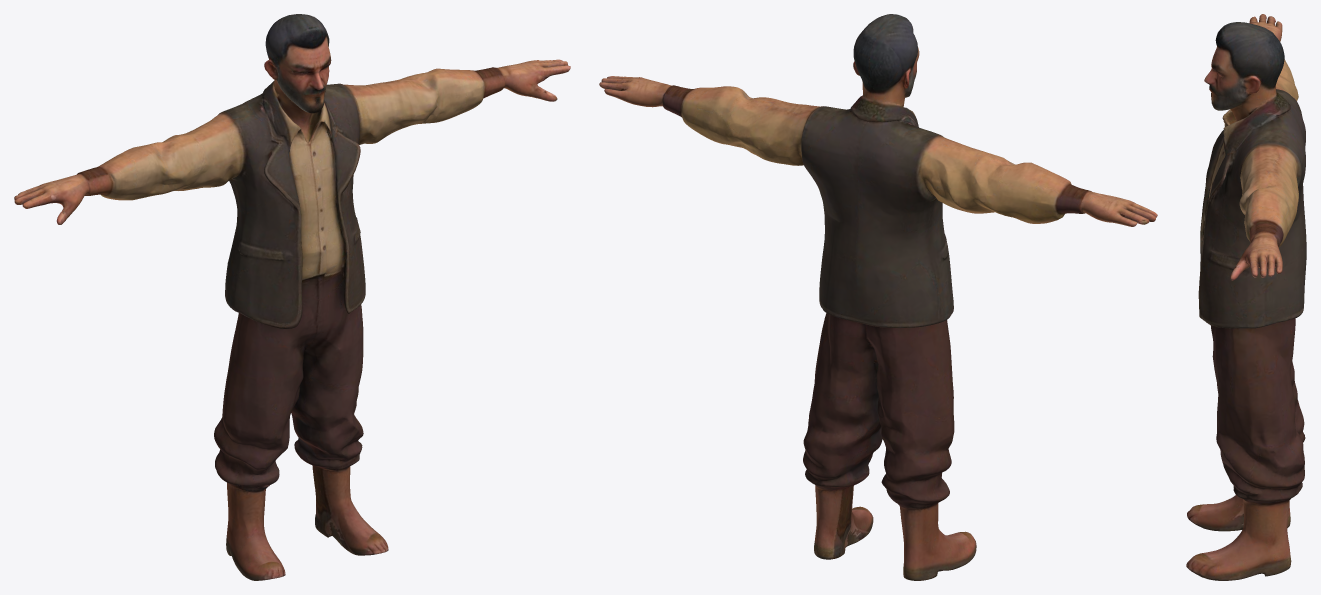
Rendered from v_yelekli.glb.
3 renders of one model, left to right at view 1: azimuth 30°, elevation 25°; view 2: azimuth 150°, elevation 25°; view 3: azimuth 270°, elevation 25°, orthographic. The views are drawn at different scales.
Parts seen in each view (by area): view 1: Object_4; view 2: Object_4; view 3: Object_4.
Boxes of the visible parts, x1,y1,x2,y2 form: Object_4: [14, 14, 570, 580]; Object_4: [599, 14, 1157, 580]; Object_4: [1186, 14, 1306, 580].
Bounding box in the file's own units: 2 × 1.86 × 0.386.
1 material, 1 textured.
